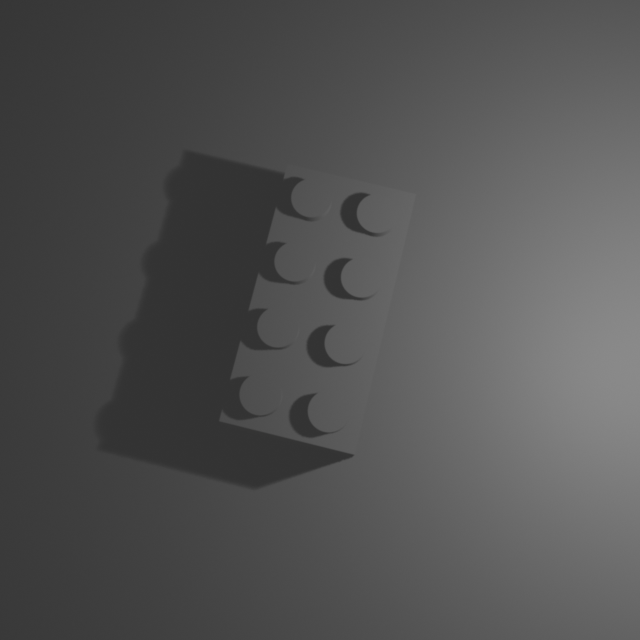lego_2x4: (217, 159, 418, 458)
